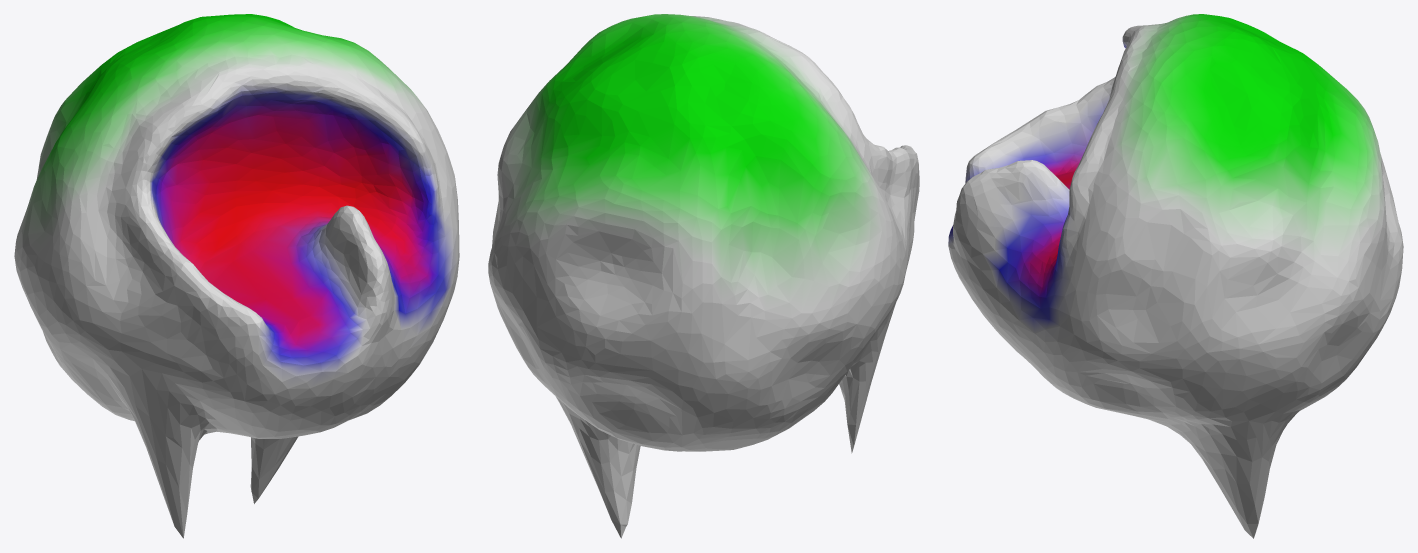
The model's file is Floating Island WallRide180.fbx.
3 views of the same model, side by side, from view 1: azimuth 30°, elevation 25°; view 2: azimuth 150°, elevation 25°; view 3: azimuth 270°, elevation 25° (orthographic). The views are drawn at different scales.
Visible parts, largest first — view 1: Sphere; view 2: Sphere; view 3: Sphere.
Part boxes in pixels (x1=…): Sphere: x1=14, y1=14, x2=459, y2=538; Sphere: x1=488, y1=14, x2=919, y2=538; Sphere: x1=948, y1=14, x2=1403, y2=538.
Size of the model in its own units: 196 by 247 by 211.
